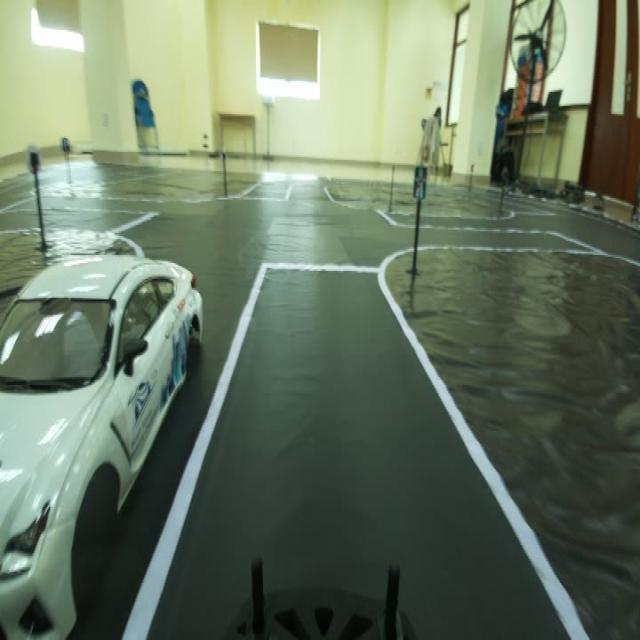car: (4, 136, 211, 626)
highway_exit: (408, 150, 431, 210)
